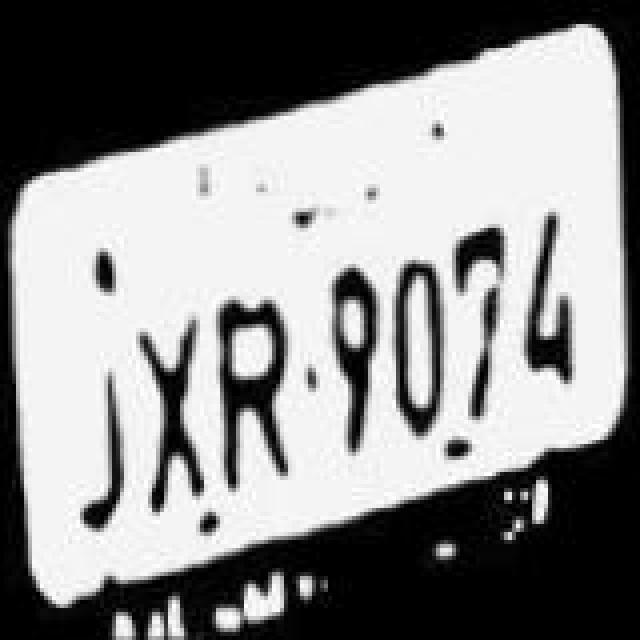4: (510, 170, 582, 422)
7: (444, 184, 512, 424)
9: (316, 228, 388, 484)
J: (66, 312, 130, 536)
O: (378, 202, 450, 442)
R: (206, 264, 290, 504)
X: (126, 288, 210, 516)
